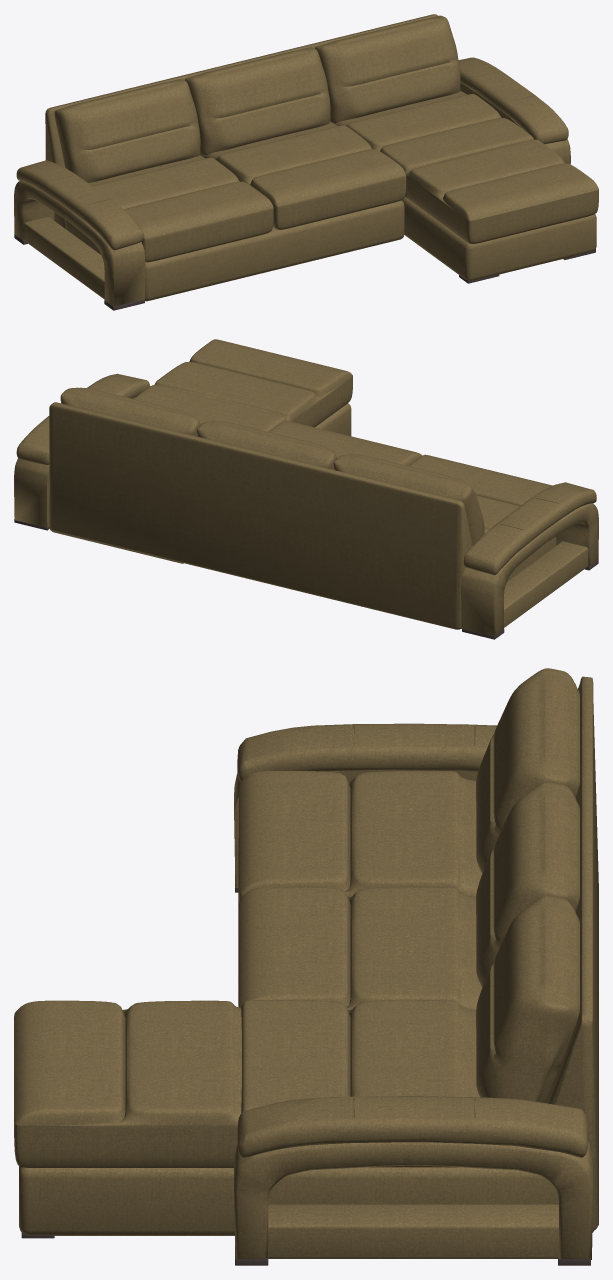
3 renders of one model, top to bottom at view 1: azimuth 30°, elevation 25°; view 2: azimuth 150°, elevation 25°; view 3: azimuth 270°, elevation 25°, orthographic. The views are drawn at different scales.
Parts seen in each view (by area): view 1: низ, Cube_1_6, Cube_1_5, Cube_1_3, подушка, подушка_2, подушка_3, Cube_1_4, Cube_11_Null, Extrude_1, Cube_2_2, спинка; view 2: спинка, Cube_1_6, Extrude_1, Cube_11_Null, подушка, Cube_1_3, Cube_2_2, подушка_2, подушка_3, Cube_1_4, Cube_1_5, низ; view 3: Cube_1_6, Cube_11_Null, Cube_1_3, Cube_1_5, низ, Cube_1_4, подушка_3, Cube_2_2, Extrude_1, подушка, подушка_2, спинка.
Part boxes in pixels (<box>): низ: <box>66,197,596,301</box>; Cube_1_6: <box>406,139,598,244</box>; Cube_1_5: <box>200,121,406,229</box>; Cube_1_3: <box>88,155,273,262</box>; подушка: <box>54,79,200,182</box>; подушка_2: <box>185,47,330,156</box>; подушка_3: <box>315,15,460,123</box>; Cube_1_4: <box>334,90,533,197</box>; Cube_11_Null: <box>16,57,568,250</box>; Extrude_1: <box>14,83,570,306</box>; Cube_2_2: <box>24,217,104,299</box>; спинка: <box>45,14,438,229</box>; спинка: <box>49,402,472,629</box>; Cube_1_6: <box>154,339,352,427</box>; Extrude_1: <box>14,397,598,636</box>; Cube_11_Null: <box>16,373,596,575</box>; подушка: <box>333,454,484,544</box>; Cube_1_3: <box>409,454,552,533</box>; Cube_2_2: <box>504,541,588,627</box>; подушка_2: <box>197,421,337,469</box>; подушка_3: <box>60,387,200,436</box>; Cube_1_4: <box>134,385,286,431</box>; Cube_1_5: <box>269,420,421,465</box>; низ: <box>49,403,556,581</box>; Cube_1_6: <box>14,1000,241,1167</box>; Cube_11_Null: <box>237,723,588,1158</box>; Cube_1_3: <box>239,771,481,903</box>; Cube_1_5: <box>239,887,481,1010</box>; низ: <box>19,838,594,1235</box>; Cube_1_4: <box>241,1000,479,1167</box>; подушка_3: <box>476,896,579,1102</box>; Cube_2_2: <box>268,1204,559,1258</box>; Extrude_1: <box>234,770,593,1259</box>; подушка: <box>476,668,579,873</box>; подушка_2: <box>476,782,579,987</box>; спинка: <box>545,676,598,1230</box>.
Size of the model in its own units: 2.35 by 0.6402 by 1.44.
2 materials, 1 textured.
